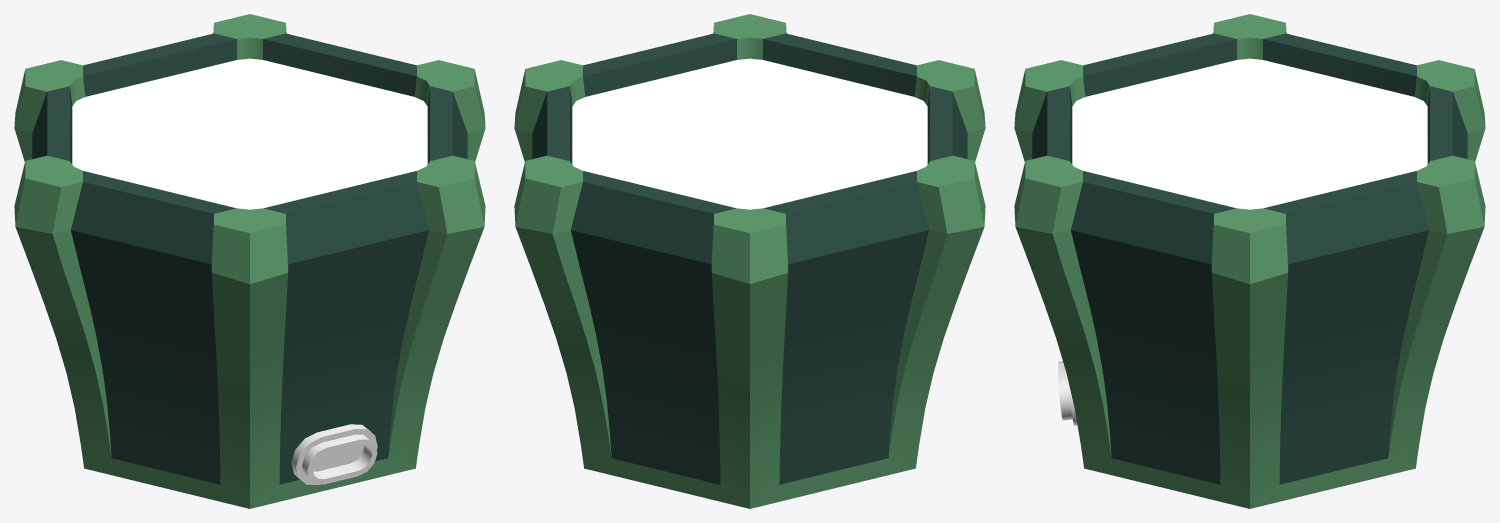
The model's file is Misc_HoloPot_02.glb.
3 views of the same model, side by side, from view 1: azimuth 30°, elevation 25°; view 2: azimuth 150°, elevation 25°; view 3: azimuth 270°, elevation 25° (orthographic).
Visible parts, largest first — view 1: Misc_HoloPot_02.001; view 2: Misc_HoloPot_02.001; view 3: Misc_HoloPot_02.001.
Boxes of the visible parts, box(x1,y1,x2,y2) form: Misc_HoloPot_02.001: box(14, 14, 485, 508); Misc_HoloPot_02.001: box(514, 14, 985, 508); Misc_HoloPot_02.001: box(1014, 14, 1485, 508).
Size of the model in its own units: 0.6032 by 0.3741 by 0.5248.
